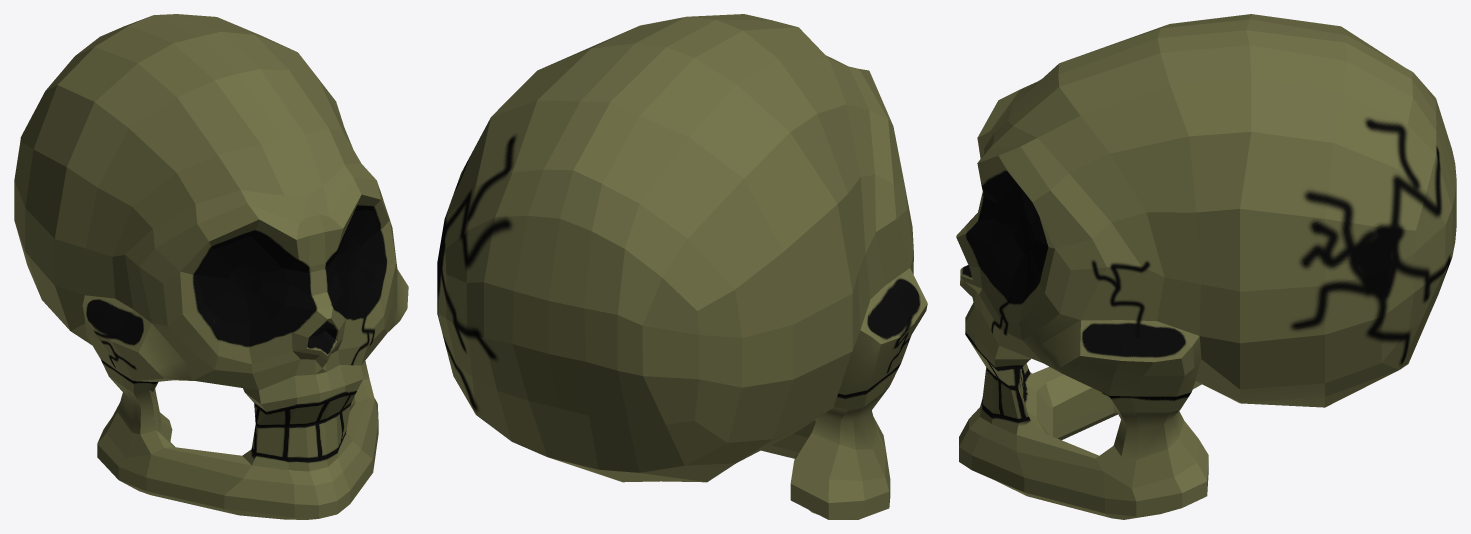
Rendered from RegularSkull_w_TempleStone_Tex.fbx.
3 views of the same model, side by side, from view 1: azimuth 30°, elevation 25°; view 2: azimuth 150°, elevation 25°; view 3: azimuth 270°, elevation 25° (orthographic). The views are drawn at different scales.
Visible parts, largest first — view 1: nurbsToPoly5; view 2: nurbsToPoly5; view 3: nurbsToPoly5.
Boxes of the visible parts, box(x1,y1,x2,y2) form: nurbsToPoly5: box(14, 14, 408, 519); nurbsToPoly5: box(437, 14, 927, 519); nurbsToPoly5: box(956, 14, 1456, 519).
Size of the model in its own units: 31.84 by 41 by 42.39.
1 material, 1 textured.
